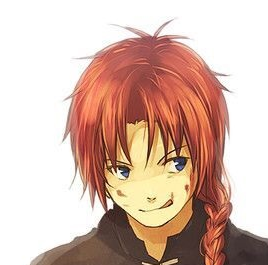demo: (19, 86, 157, 154)
plane: (77, 73, 220, 232)
